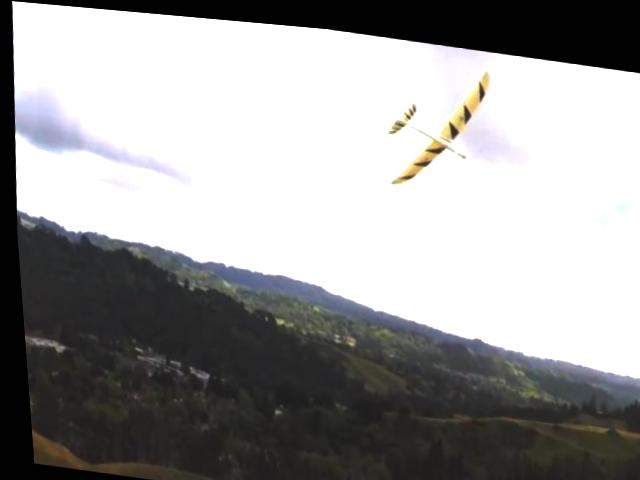iha: (378, 47, 498, 191)
